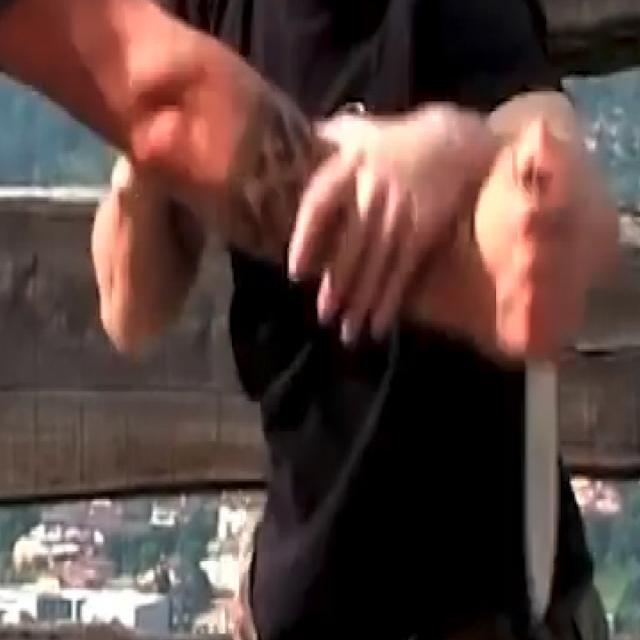suspicion: (6, 2, 628, 634), (520, 352, 563, 628)
